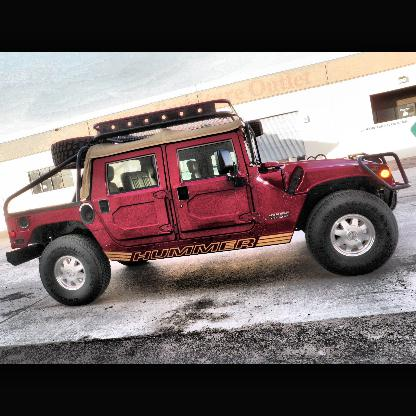AM General Hummer SUV 2000: (4, 101, 411, 307)
